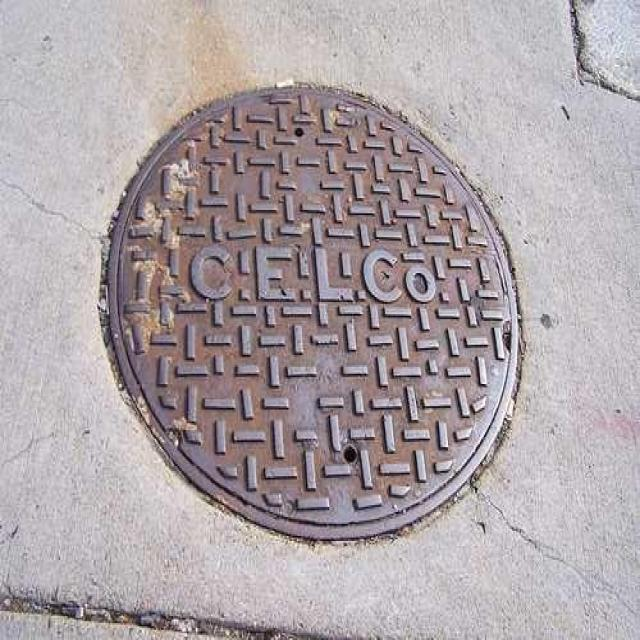manhole: (105, 85, 520, 539)
